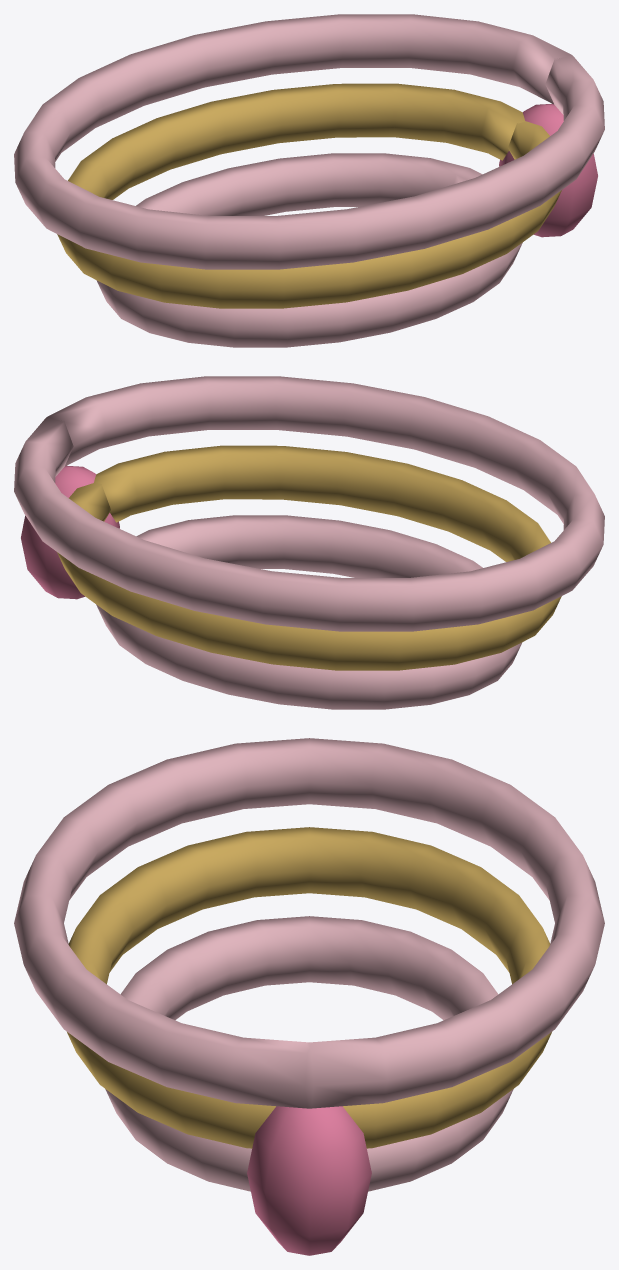
File: curtain_rope_coil.glb
The picture shows the model from 3 angles, top to bottom: view 1: azimuth 30°, elevation 25°; view 2: azimuth 150°, elevation 25°; view 3: azimuth 270°, elevation 25°; orthographic projection. The views are drawn at different scales.
Visible parts, largest first — view 1: curtain_rope_coil; view 2: curtain_rope_coil; view 3: curtain_rope_coil.
Boxes of the visible parts, x1,y1,x2,y2 form: curtain_rope_coil: [14, 14, 604, 347]; curtain_rope_coil: [14, 376, 604, 709]; curtain_rope_coil: [14, 738, 604, 1255].
Size of what is drawn, in the model's own units: 0.4 by 0.12 by 0.3.
